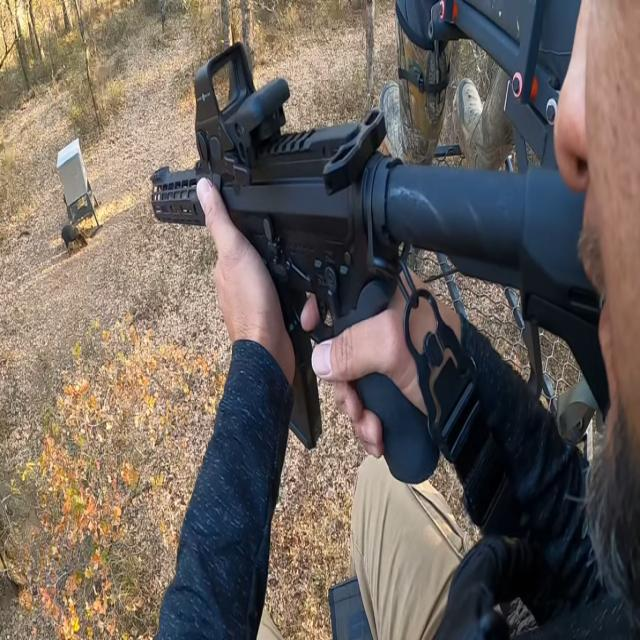Rifle: (140, 28, 620, 457)
